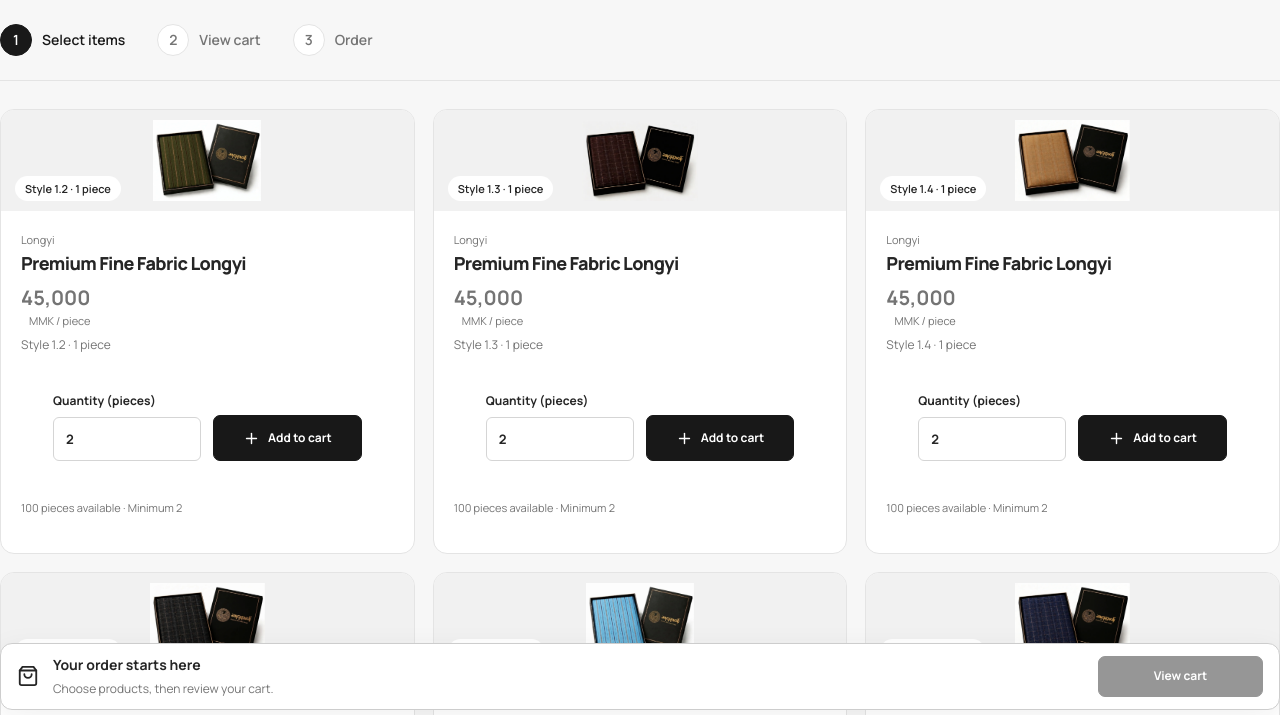
Test: shows the imported longyi styles and reviews a selected style before ordering
Expected: the element that starts with "Style 1.2 · 1 piece" shows "Premium Fine Fabric Longyi", [21, 251, 246, 275]
Expected: the element that starts with "Style 1.2 · 1 piece" is shown, [25, 181, 111, 196]
Click the 1st button "Add to cart".
click(287, 438)  # box [213, 415, 362, 461]
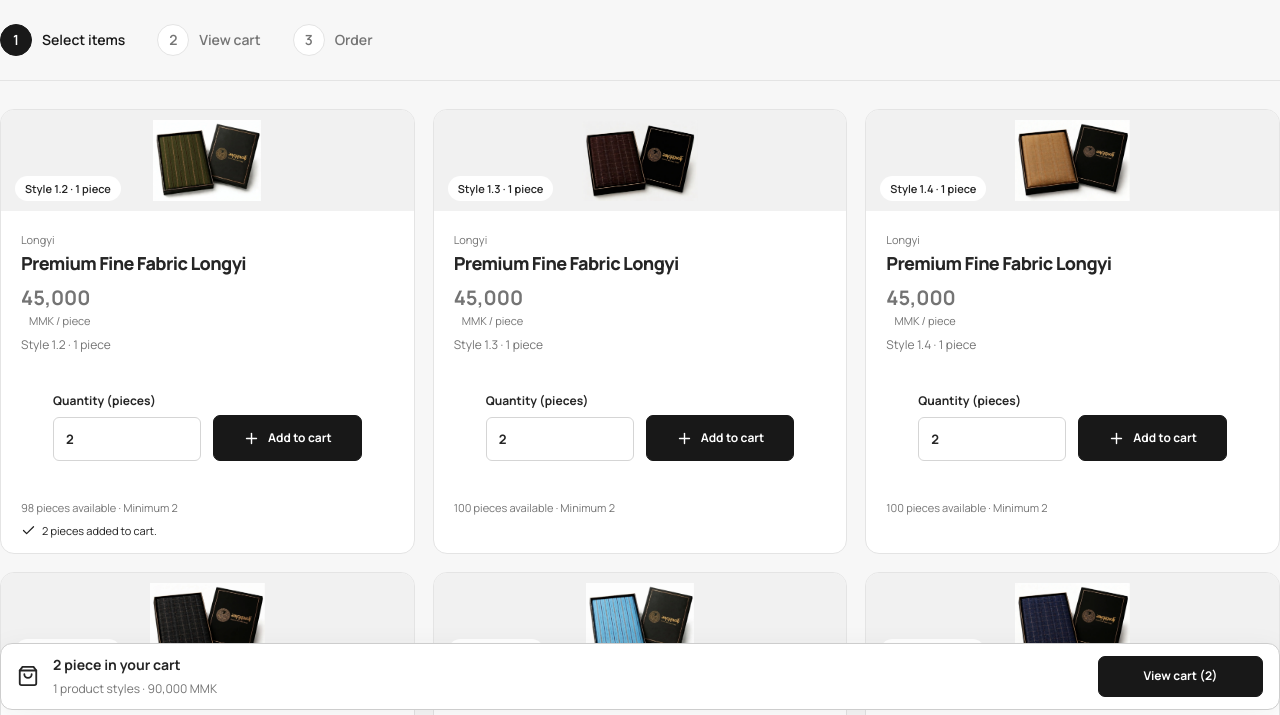
Click the button "View cart (2)".
click(1180, 677)  # box [1098, 656, 1263, 697]
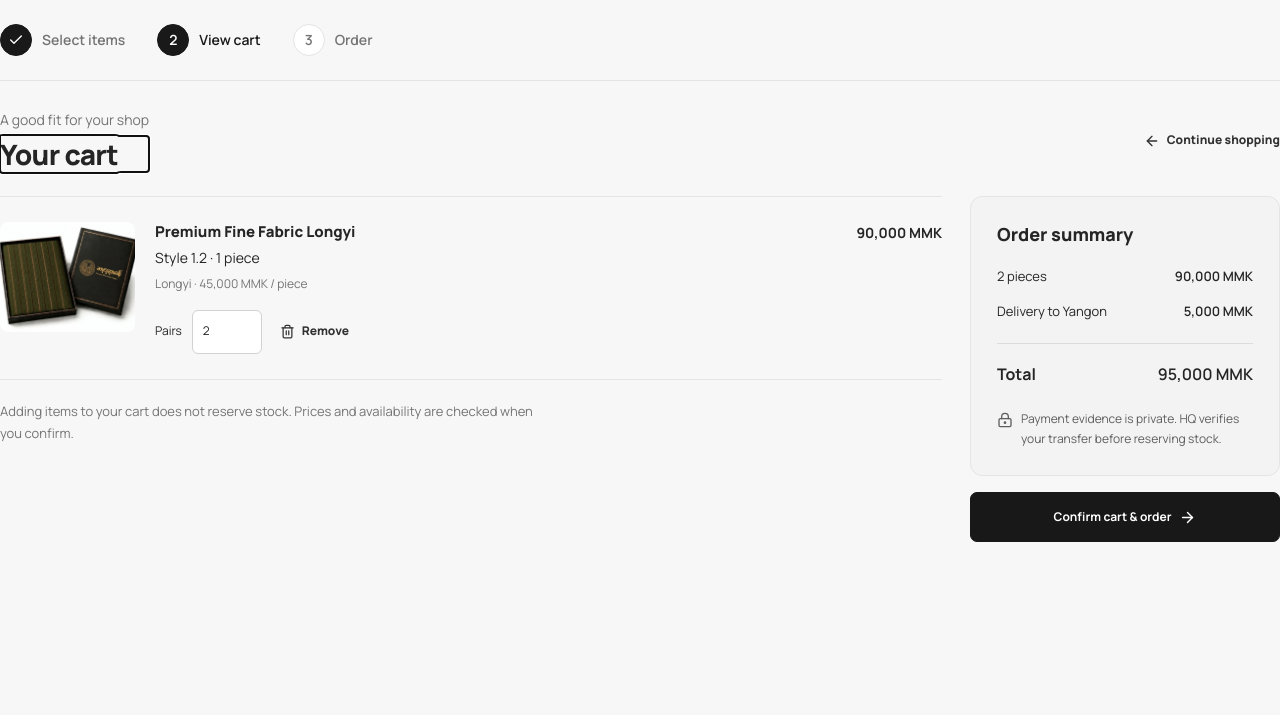
Expected: the element with class "checkout-cart-description" shows "Style 1.2", [155, 248, 260, 267]
Expected: the button "Remove" is shown
Click the button "Remove".
click(314, 332)  # box [280, 310, 349, 354]
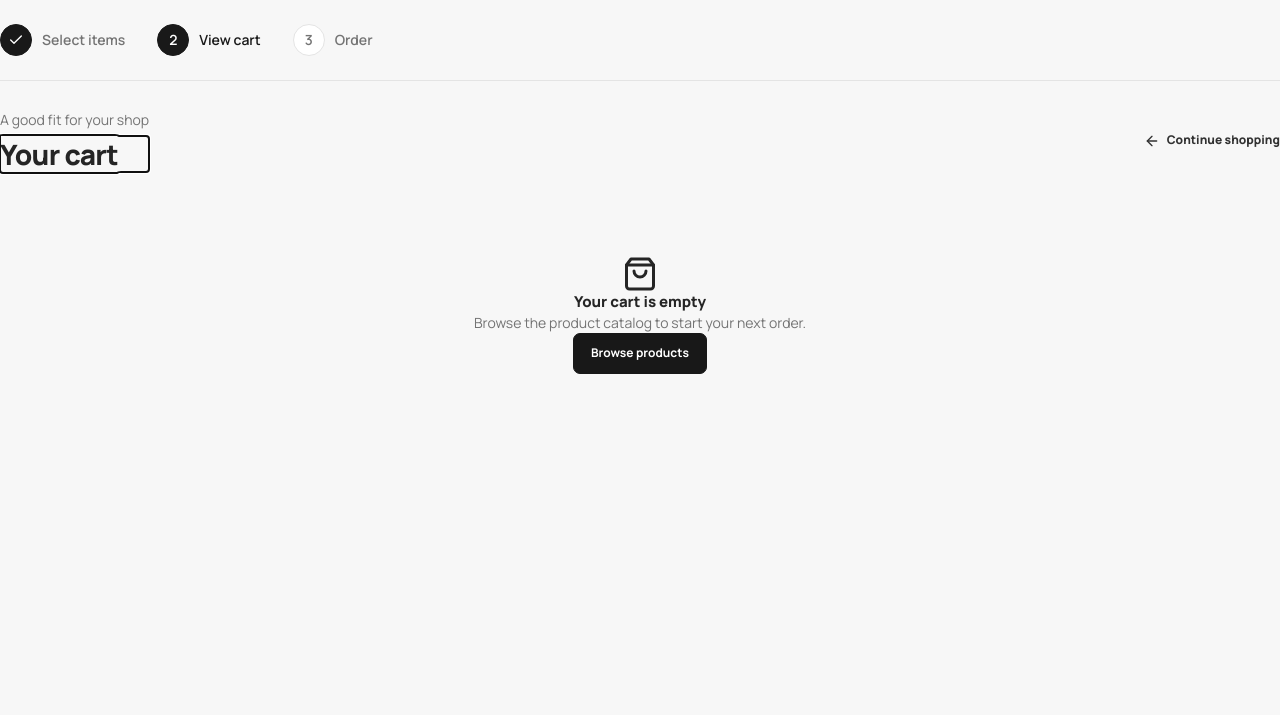
Expected: the text "Your cart is empty" is shown, [574, 292, 706, 312]
